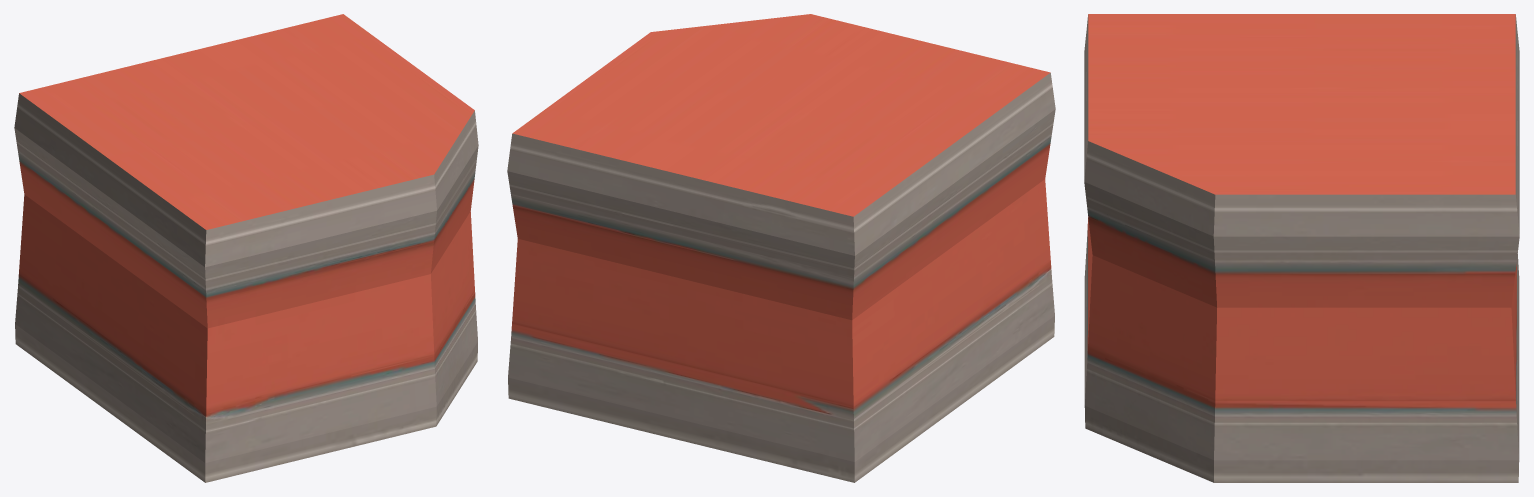
File: corner_rect90_coral.glb
The picture shows the model from 3 angles, left to right: view 1: azimuth 30°, elevation 25°; view 2: azimuth 150°, elevation 25°; view 3: azimuth 270°, elevation 25°; orthographic projection. The views are drawn at different scales.
Visible parts, largest first — view 1: corner_rect90_coral; view 2: corner_rect90_coral; view 3: corner_rect90_coral.
Part boxes in pixels (<box>): corner_rect90_coral: <box>14,14,478,482</box>; corner_rect90_coral: <box>507,14,1055,482</box>; corner_rect90_coral: <box>1084,14,1519,482</box>.
Bounding box in the file's own units: 0.74 × 0.5382 × 0.74.
Materials: 1 (1 with a texture image).
